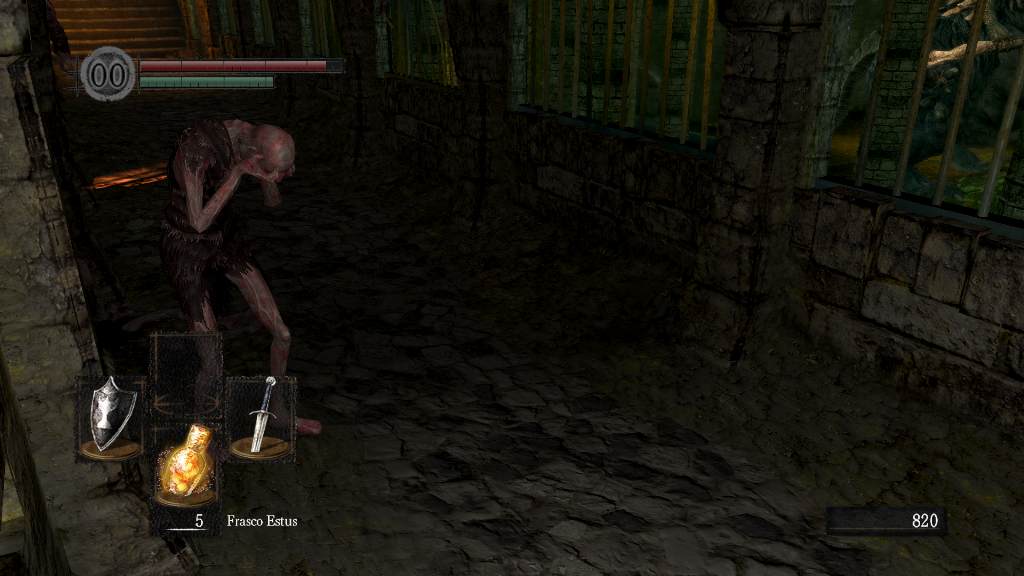health: (138, 58, 343, 71)
hollow: (164, 115, 321, 437)
humanity: (80, 45, 136, 102)
souls: (825, 506, 945, 536)
stamina: (138, 74, 274, 88)
